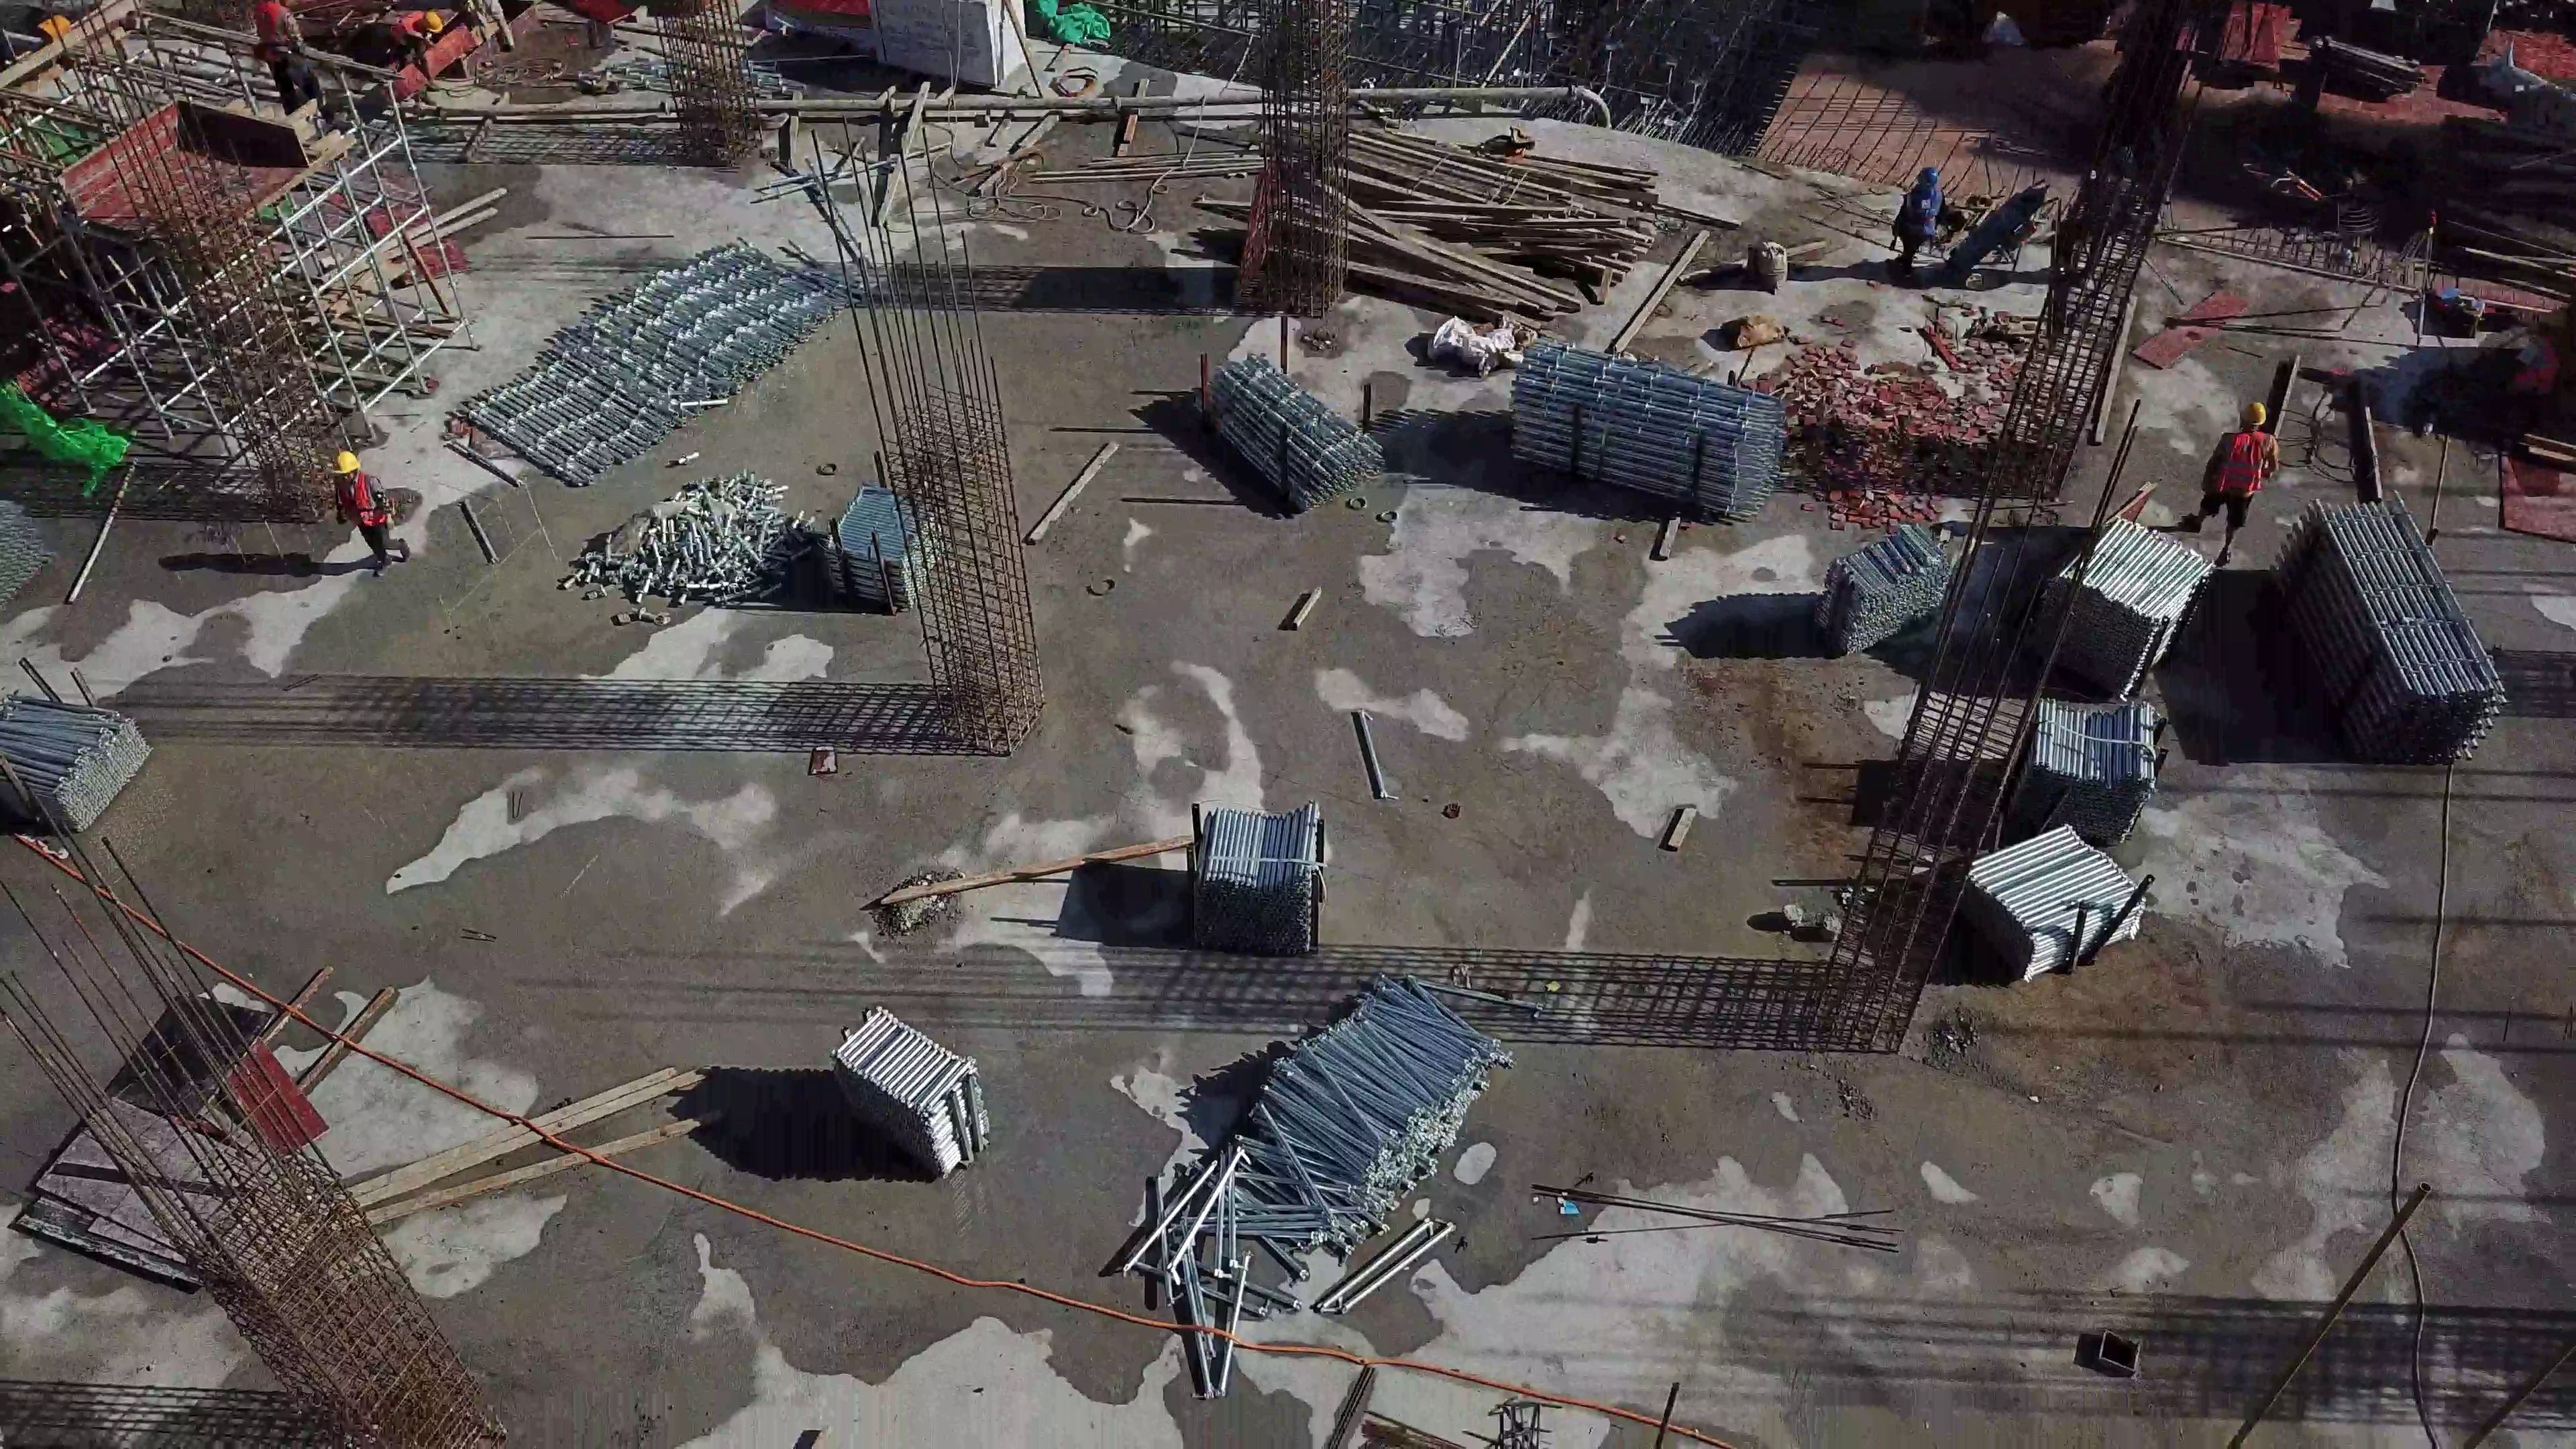board: (19, 959, 340, 1291)
helmet: (420, 11, 449, 38), (2241, 396, 2265, 428), (1916, 163, 1941, 195), (330, 453, 362, 476)
person: (321, 458, 411, 584), (2212, 398, 2274, 564), (241, 1, 319, 125), (1881, 158, 1950, 292), (382, 13, 439, 92)
scaffold: (1134, 975, 1491, 1352), (473, 235, 836, 497), (2286, 484, 2522, 783), (1500, 342, 1792, 537), (1923, 817, 2164, 973), (1204, 362, 1385, 516), (830, 1005, 984, 1177), (2010, 695, 2180, 850), (1, 674, 162, 833), (611, 495, 816, 610), (2043, 530, 2208, 674), (1177, 805, 1321, 958), (1827, 516, 1964, 667), (812, 488, 961, 619)
vest: (2214, 432, 2271, 508), (330, 480, 394, 529), (254, 8, 293, 68), (1904, 191, 1939, 236)
wood: (1357, 124, 1627, 298)
